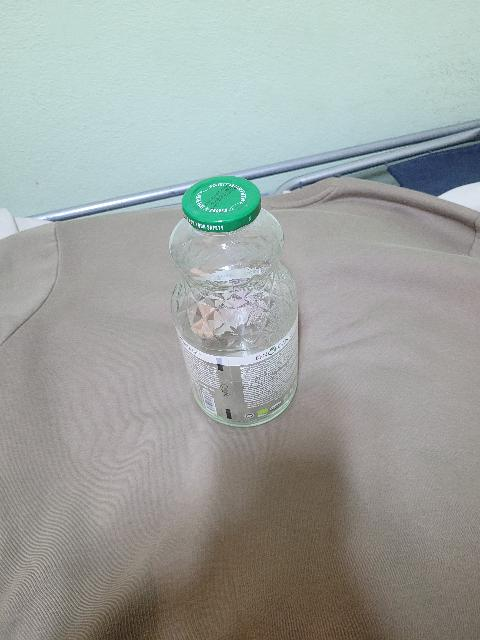Cam: (169, 218, 293, 425)
Metal: (185, 179, 266, 231)
